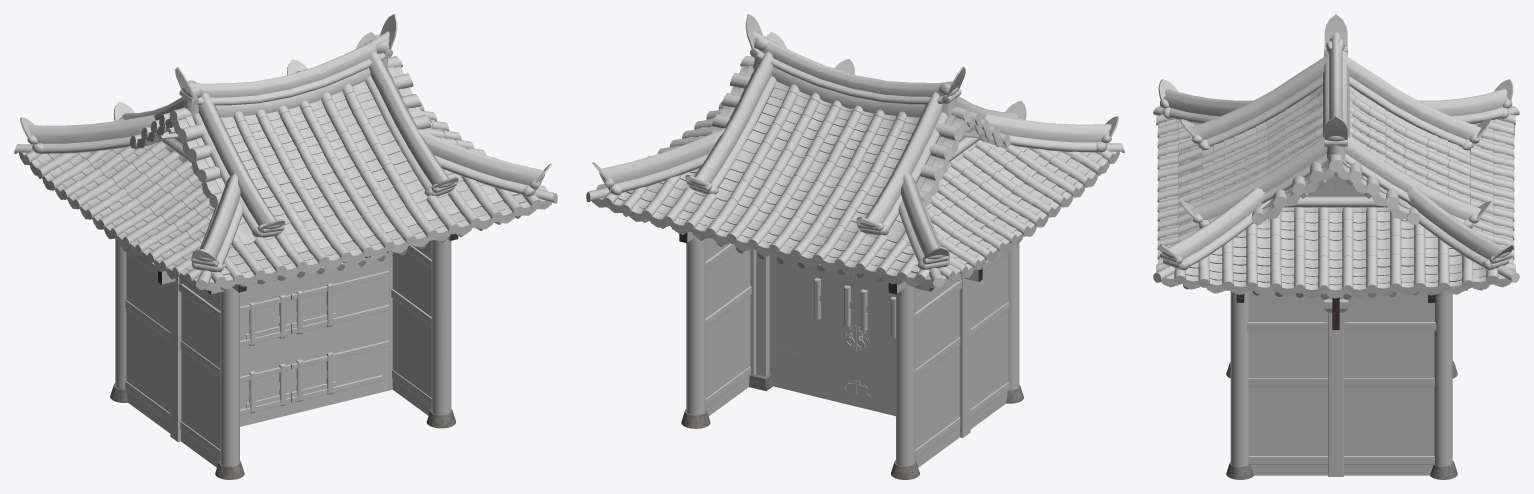
File: SM_Hyogyeongmun_back_gate.fbx
3 views of the same model, side by side, from view 1: azimuth 30°, elevation 25°; view 2: azimuth 150°, elevation 25°; view 3: azimuth 270°, elevation 25° (orthographic). The views are drawn at different scales.
Visible parts, largest first — view 1: Hyogyeongmun_back_gate; view 2: Hyogyeongmun_back_gate; view 3: Hyogyeongmun_back_gate.
Part boxes in pixels (x1,y1,x2,y2): Hyogyeongmun_back_gate: (14,14,557,479); Hyogyeongmun_back_gate: (586,14,1124,479); Hyogyeongmun_back_gate: (1153,14,1519,479).
Bounding box in the file's own units: 723 × 710 × 657.
